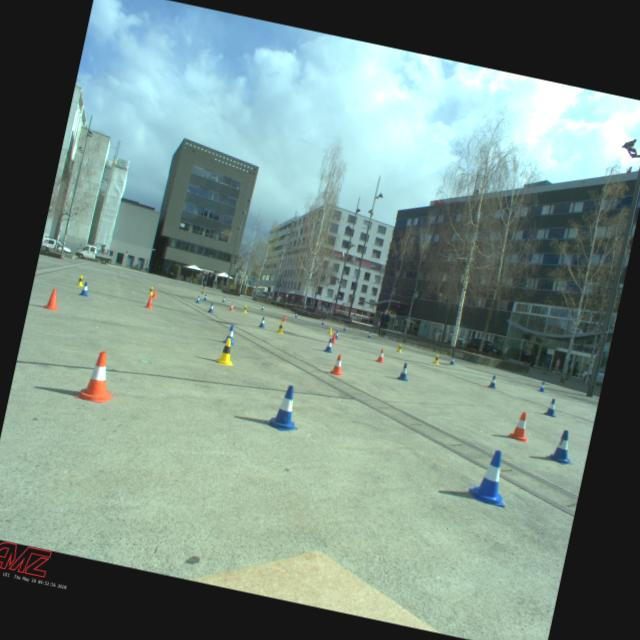blue_cone: (466, 445, 516, 508), (264, 381, 306, 434), (544, 426, 580, 466), (222, 323, 238, 345), (543, 397, 559, 417), (396, 361, 410, 381), (322, 337, 336, 353), (78, 281, 90, 297), (487, 374, 498, 388), (258, 316, 267, 328), (538, 380, 546, 392), (207, 302, 215, 313), (448, 355, 456, 365), (334, 330, 340, 340), (195, 295, 201, 303), (202, 294, 208, 300), (342, 324, 347, 330), (367, 332, 372, 338), (222, 296, 226, 302), (260, 304, 264, 310), (294, 312, 298, 318), (320, 318, 324, 324)
orange_cone: (74, 347, 122, 405), (508, 410, 533, 442), (43, 286, 64, 312), (328, 352, 347, 377), (374, 348, 386, 363), (144, 294, 155, 308), (330, 332, 338, 343), (152, 288, 158, 298), (229, 303, 235, 311), (280, 314, 286, 322)
yellow_cone: (214, 336, 240, 366), (76, 274, 86, 287), (276, 321, 285, 334), (432, 353, 440, 364), (147, 285, 155, 295), (395, 342, 403, 352), (327, 326, 334, 335), (242, 304, 248, 312)
